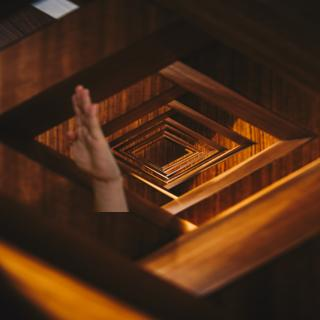RIGHT: (64, 80, 119, 181)
